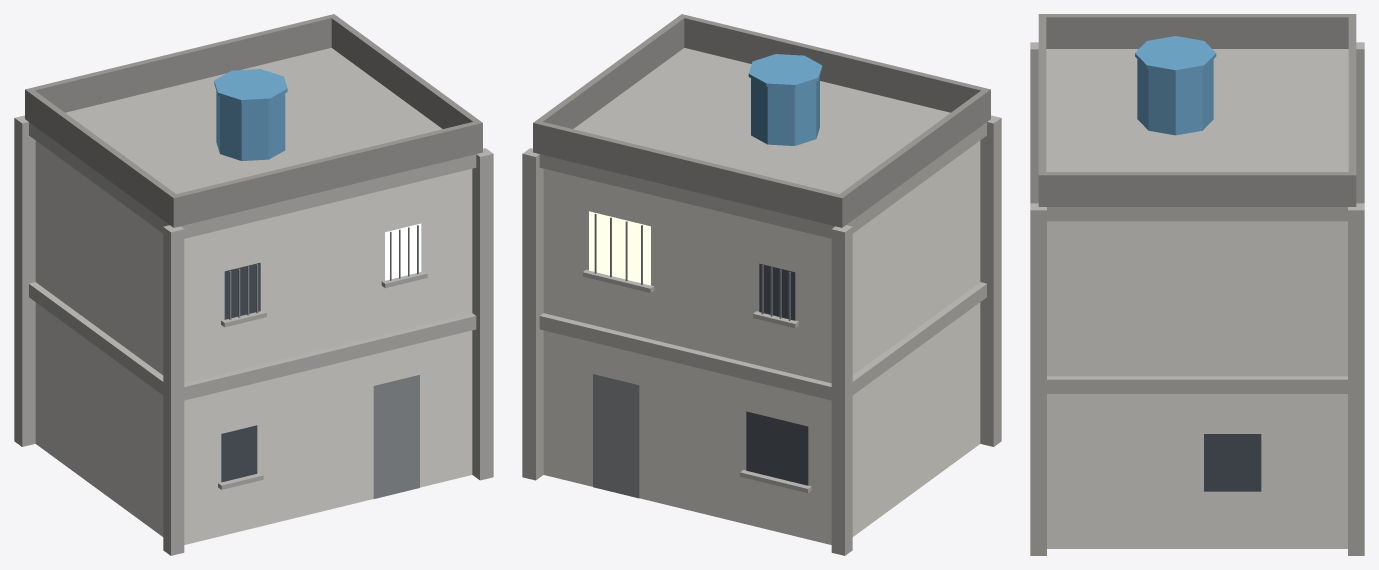
Rendered from fv_house_d.glb.
3 renders of one model, left to right at view 1: azimuth 30°, elevation 25°; view 2: azimuth 150°, elevation 25°; view 3: azimuth 270°, elevation 25°, orthographic. The views are drawn at different scales.
Parts seen in each view (by area): view 1: fv_house_d; view 2: fv_house_d; view 3: fv_house_d.
Boxes of the visible parts, bbox=[...] form: fv_house_d: bbox=[14, 14, 493, 555]; fv_house_d: bbox=[522, 14, 1001, 555]; fv_house_d: bbox=[1030, 14, 1364, 555].
Size of the model in its own units: 6.26 by 7.15 by 5.26.
